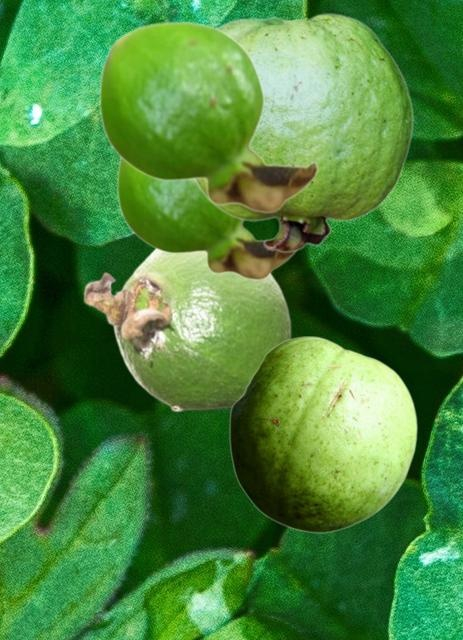guava: (193, 13, 413, 252), (98, 20, 318, 213), (229, 336, 416, 532), (82, 249, 292, 411), (116, 159, 297, 280)
